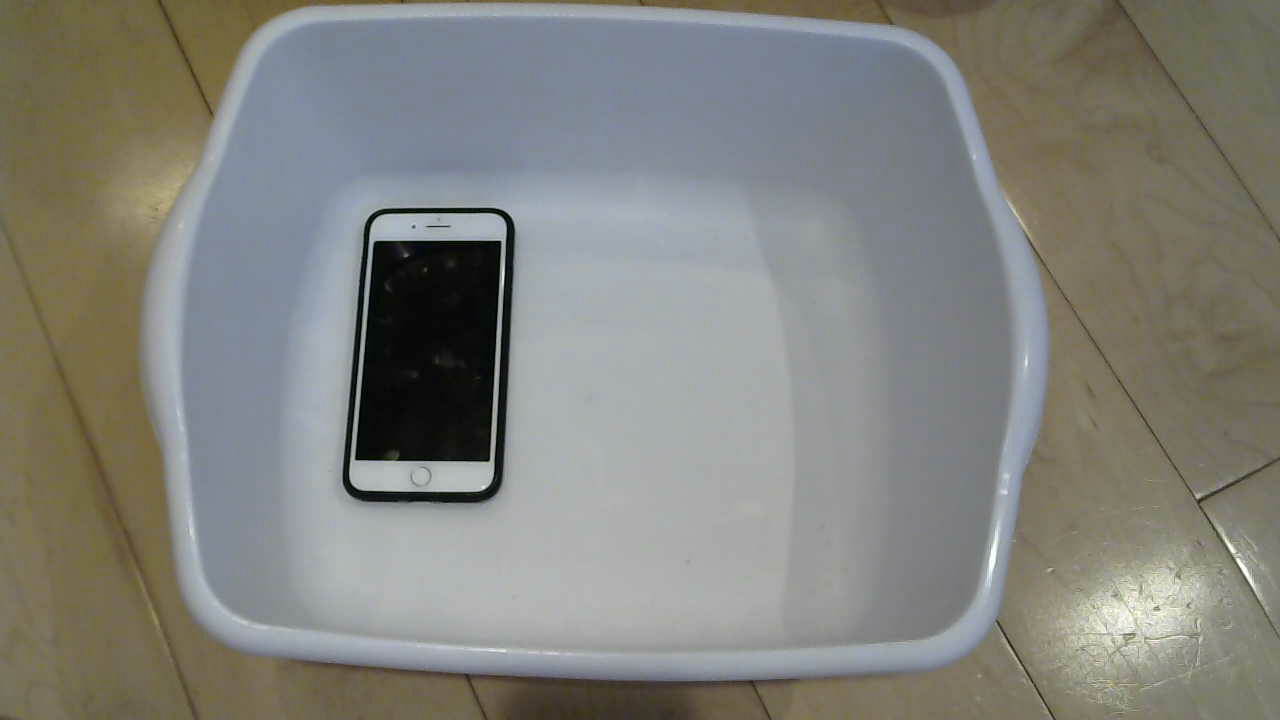phone: (349, 207, 534, 518)
